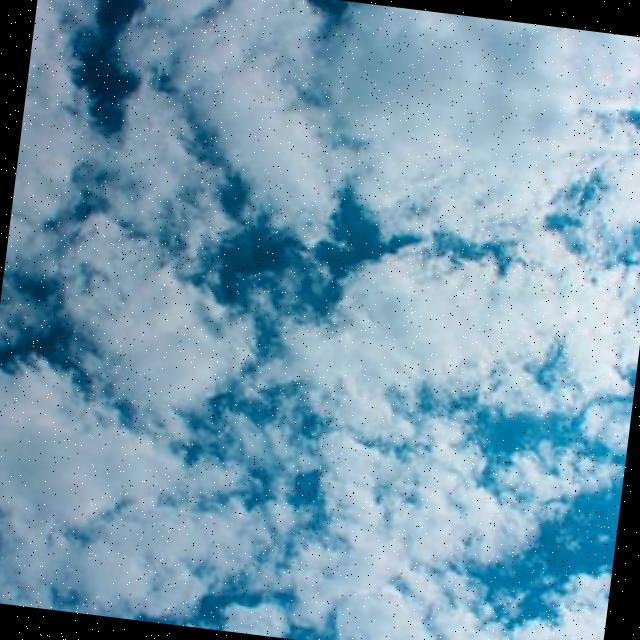Cc: (1, 39, 640, 640)
